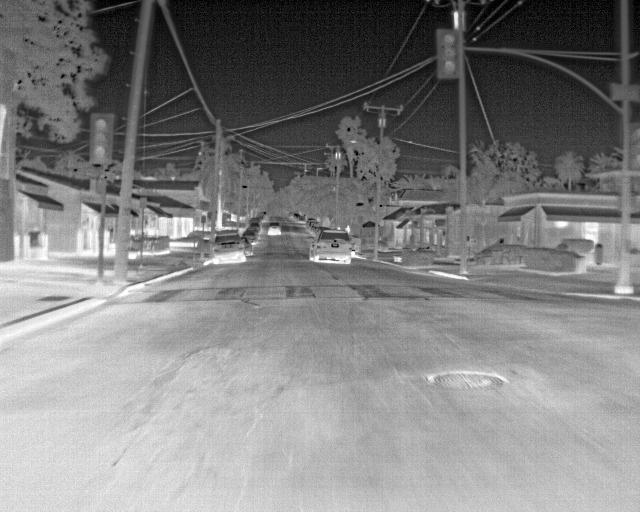bicycle: (308, 228, 353, 266), (210, 233, 246, 264), (265, 221, 282, 235), (239, 238, 252, 256), (243, 230, 257, 244), (248, 227, 261, 240), (246, 222, 260, 234)
